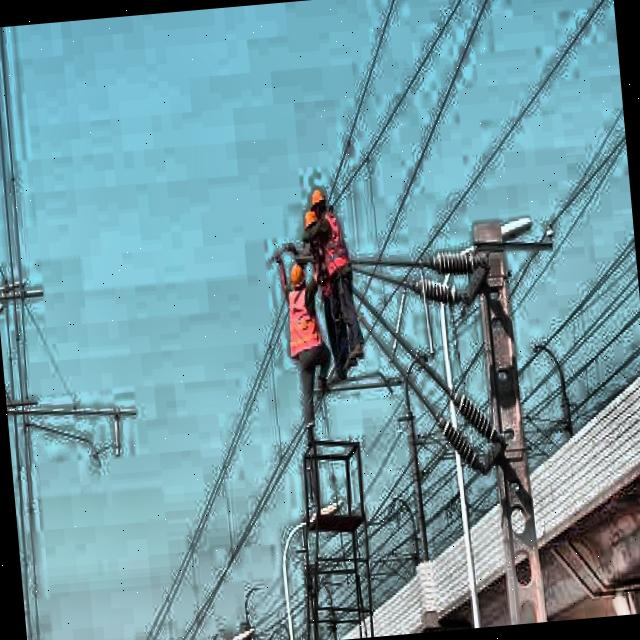helmet: (307, 182, 332, 224), (284, 258, 310, 298), (297, 204, 322, 242)
